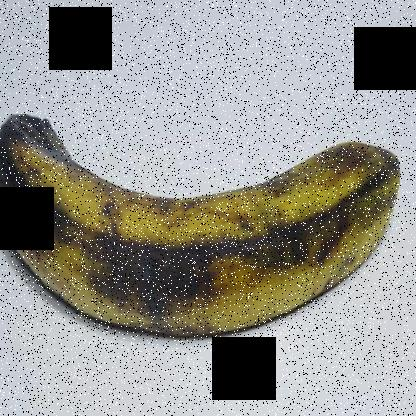overripe: (1, 88, 408, 351)
rotten: (1, 101, 77, 230)
